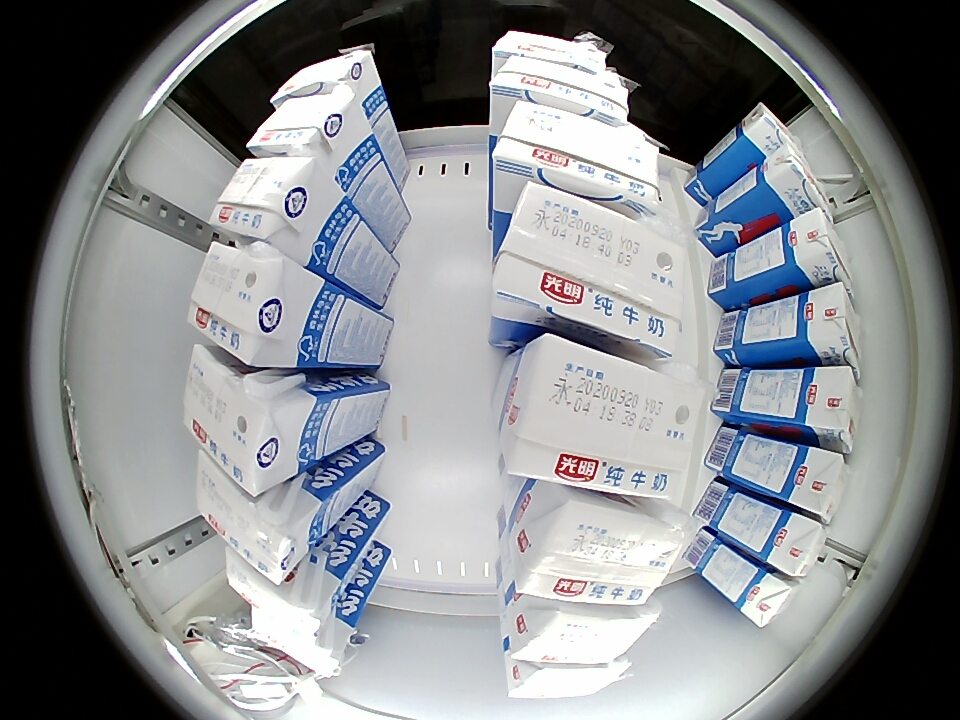niunai: (501, 334, 708, 500), (491, 182, 685, 356), (516, 492, 690, 605), (184, 346, 314, 496), (492, 101, 664, 212), (193, 452, 312, 587), (187, 240, 306, 368), (226, 553, 335, 647), (488, 56, 632, 126), (503, 600, 658, 665), (210, 155, 320, 243), (246, 91, 358, 162), (246, 607, 349, 678), (272, 47, 381, 113), (784, 208, 855, 293), (503, 654, 632, 699), (798, 282, 863, 371), (490, 31, 610, 77), (759, 144, 833, 218), (799, 367, 862, 453), (788, 446, 850, 523), (766, 511, 828, 579), (737, 567, 804, 628), (740, 103, 806, 163)
